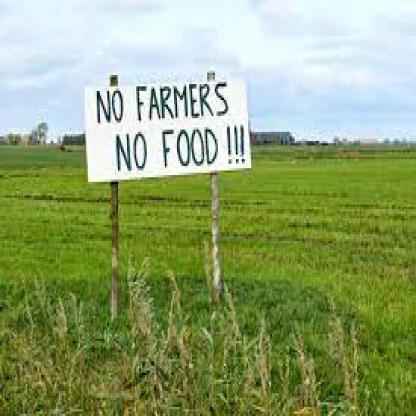BANNER: (83, 70, 251, 184)
